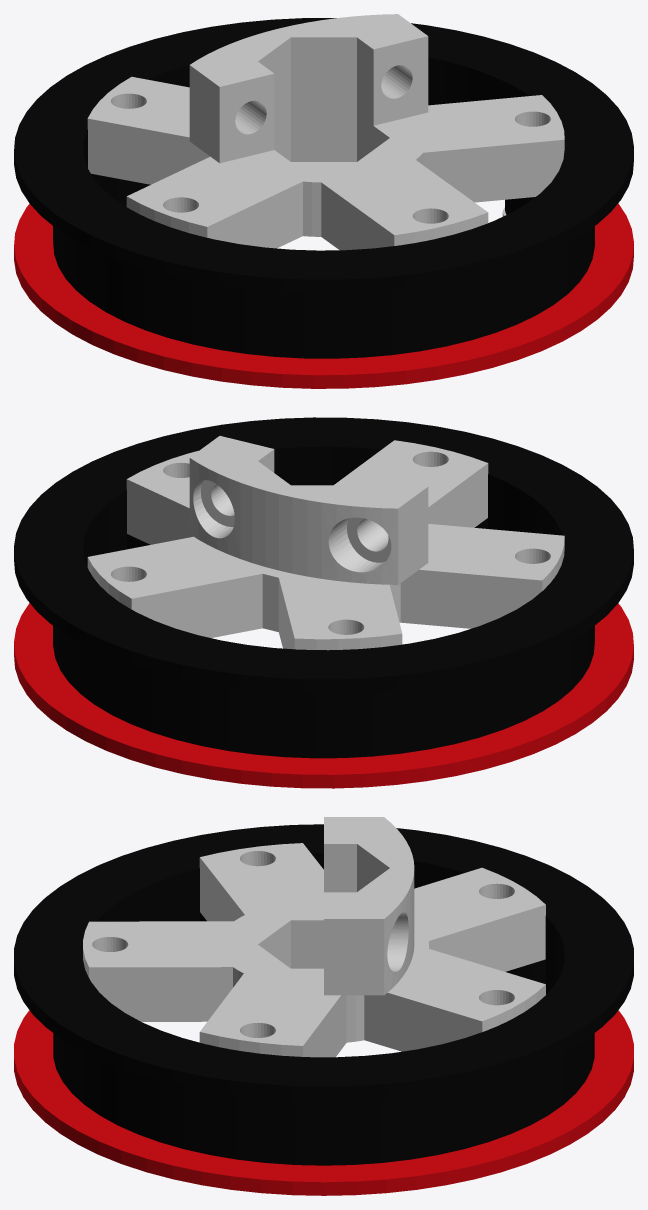
The model's file is TOOTHED BELT PULLEY 28T.fbx.
3 renders of one model, top to bottom at view 1: azimuth 30°, elevation 25°; view 2: azimuth 150°, elevation 25°; view 3: azimuth 270°, elevation 25°, orthographic.
Visible parts, largest first — view 1: Assemblage petit pignon; view 2: Assemblage petit pignon; view 3: Assemblage petit pignon.
Part boxes in pixels (x1,y1,x2,y2): Assemblage petit pignon: [14, 14, 633, 388]; Assemblage petit pignon: [14, 417, 633, 788]; Assemblage petit pignon: [14, 817, 633, 1195].
Bounding box in the file's own units: 1030 × 370 × 1029.
